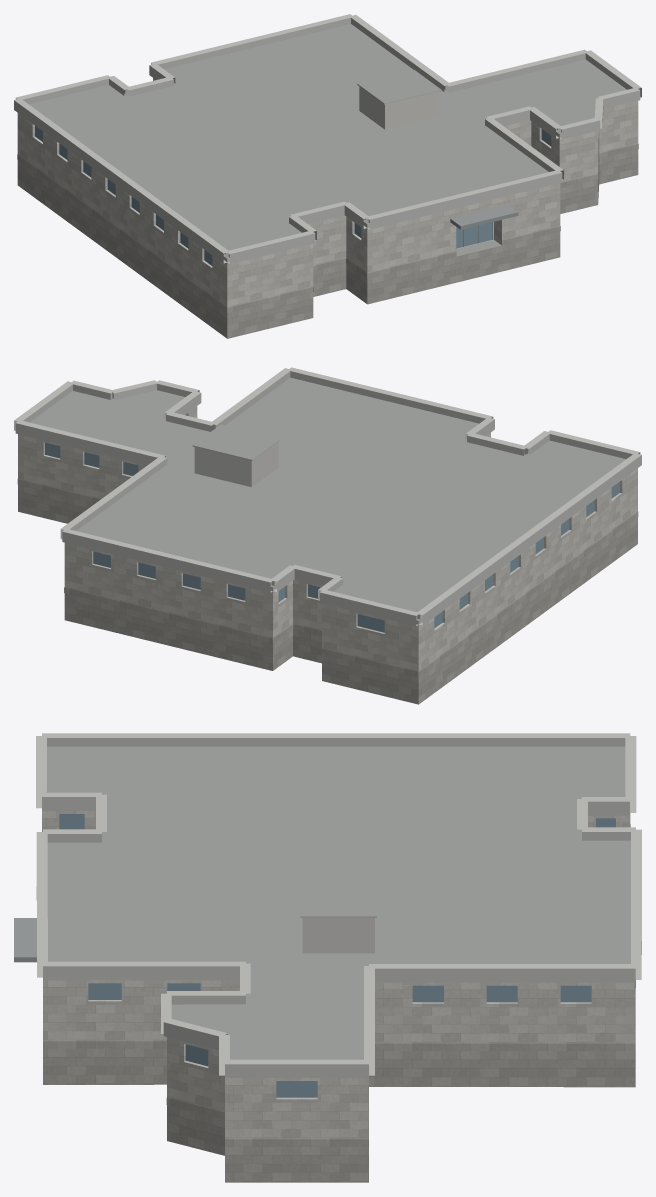
3 views of the same model, one above another, from view 1: azimuth 30°, elevation 25°; view 2: azimuth 150°, elevation 25°; view 3: azimuth 270°, elevation 25° (orthographic). The views are drawn at different scales.
Visible parts, largest first — view 1: saeneulE3_4__roof, saeneulE3_4__wall, saeneulE3_4__trim, saeneulE3_4__base, saeneulE3_4__wall2, saeneulE3_4__glass, saeneulE3_4__canopy; view 2: saeneulE3_4__roof, saeneulE3_4__wall, saeneulE3_4__trim, saeneulE3_4__base, saeneulE3_4__glass, saeneulE3_4__wall2; view 3: saeneulE3_4__roof, saeneulE3_4__wall, saeneulE3_4__trim, saeneulE3_4__base, saeneulE3_4__glass, saeneulE3_4__wall2, saeneulE3_4__canopy.
Part boxes in pixels (x1,y1,x2,y2): saeneulE3_4__roof: [29, 24, 626, 258]; saeneulE3_4__wall: [17, 78, 638, 312]; saeneulE3_4__trim: [14, 14, 641, 263]; saeneulE3_4__base: [17, 144, 638, 338]; saeneulE3_4__wall2: [359, 86, 439, 129]; saeneulE3_4__glass: [35, 126, 551, 265]; saeneulE3_4__canopy: [450, 204, 518, 229]; saeneulE3_4__roof: [30, 377, 625, 620]; saeneulE3_4__wall: [18, 406, 637, 677]; saeneulE3_4__trim: [14, 367, 641, 626]; saeneulE3_4__base: [17, 479, 638, 704]; saeneulE3_4__glass: [45, 414, 619, 632]; saeneulE3_4__wall2: [194, 442, 278, 487]; saeneulE3_4__roof: [47, 746, 630, 1059]; saeneulE3_4__wall: [42, 811, 635, 1139]; saeneulE3_4__trim: [36, 733, 641, 1078]; saeneulE3_4__base: [43, 824, 635, 1182]; saeneulE3_4__glass: [59, 814, 615, 1097]; saeneulE3_4__wall2: [302, 918, 374, 953]; saeneulE3_4__canopy: [14, 918, 36, 962].
Size of the model in its own units: 48.7 by 10.3 by 39.04.
Materials: 9 (2 with a texture image).
